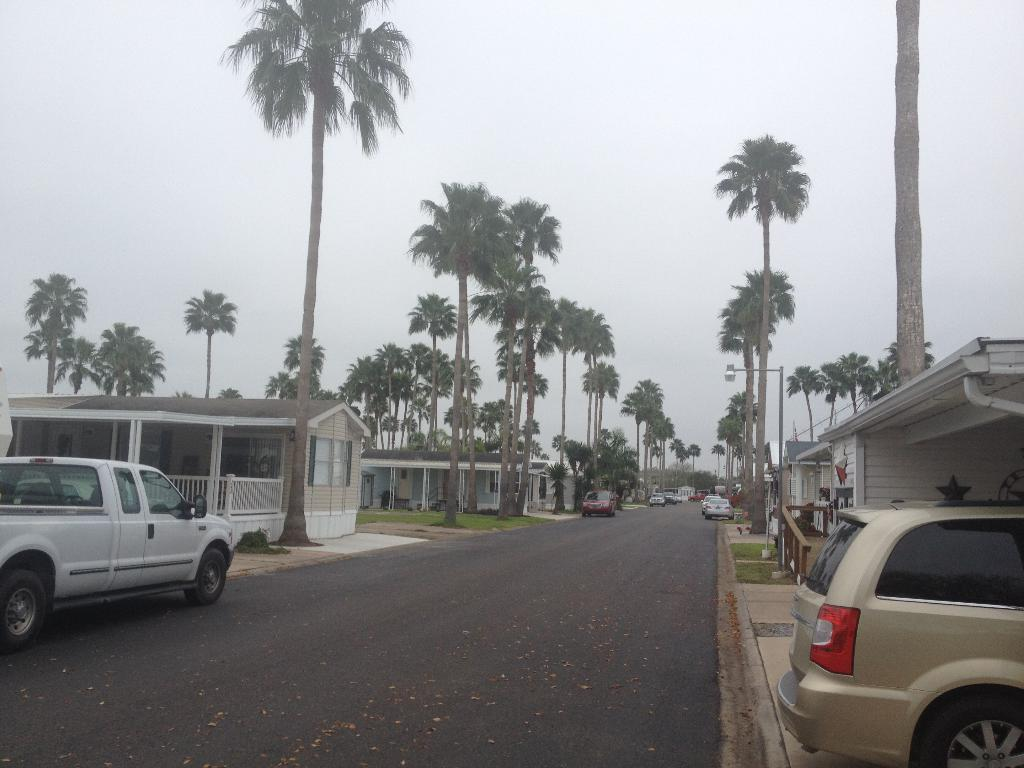Car: (776, 500, 1023, 767), (0, 455, 234, 650), (581, 488, 616, 518), (707, 498, 735, 519), (702, 495, 719, 514), (647, 493, 664, 506), (702, 493, 718, 504), (662, 490, 674, 502), (687, 493, 704, 501), (677, 493, 682, 502)
